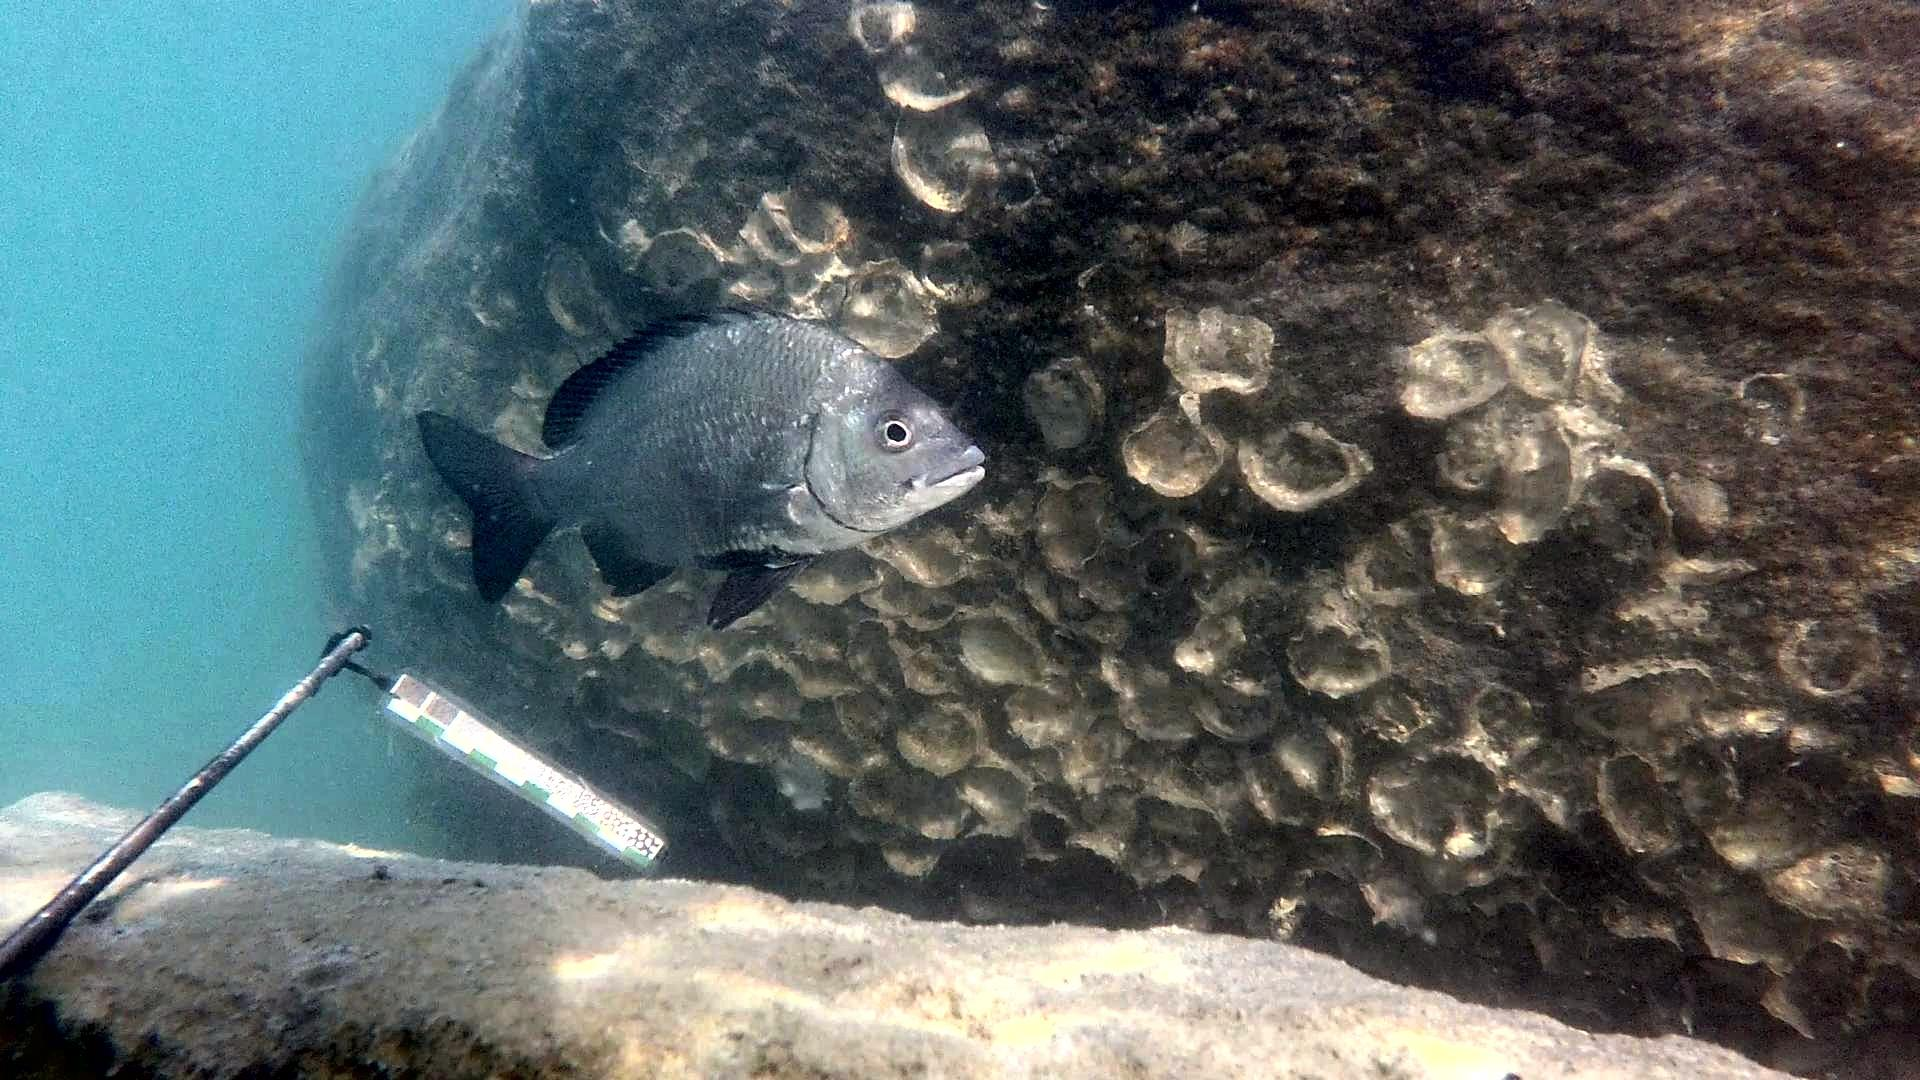acanthopagrus palmaris: (407, 295, 989, 642)
